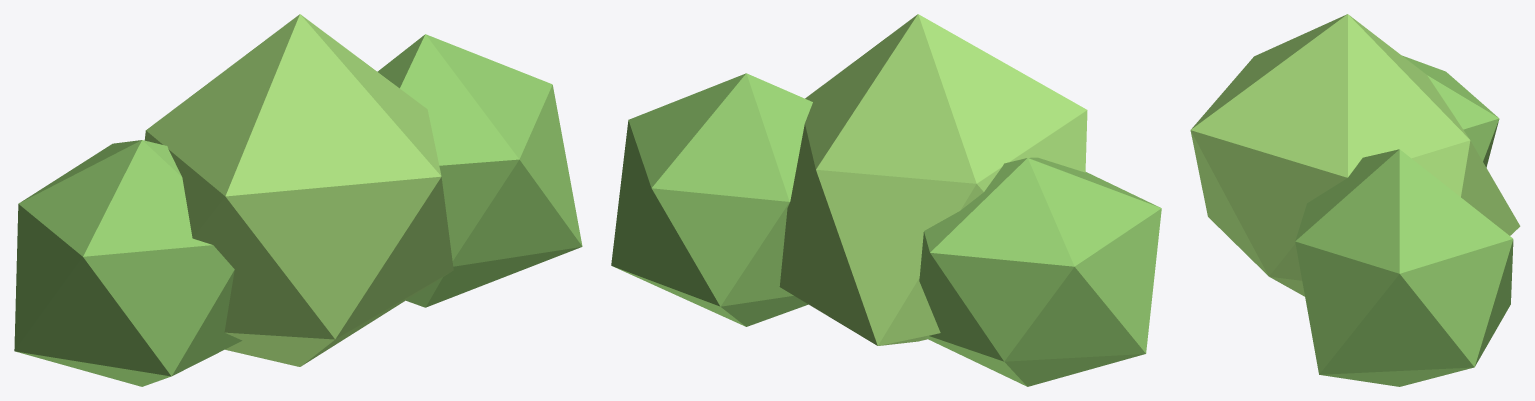
Rendered from bush.glb.
3 renders of one model, left to right at view 1: azimuth 30°, elevation 25°; view 2: azimuth 150°, elevation 25°; view 3: azimuth 270°, elevation 25°, orthographic. The views are drawn at different scales.
Parts seen in each view (by area): view 1: bush-leaf1, bush-leaf2; view 2: bush-leaf1, bush-leaf2; view 3: bush-leaf2, bush-leaf1.
Boxes of the visible parts, box(x1,y1,x2,y2) form: bush-leaf1: box(14, 34, 582, 386); bush-leaf2: box(144, 14, 453, 366); bush-leaf1: box(611, 73, 1161, 386); bush-leaf2: box(779, 14, 1087, 345); bush-leaf2: box(1190, 14, 1520, 296); bush-leaf1: box(1295, 55, 1513, 386).
Bounding box in the file's own units: 1.59 × 0.9801 × 0.9535.
